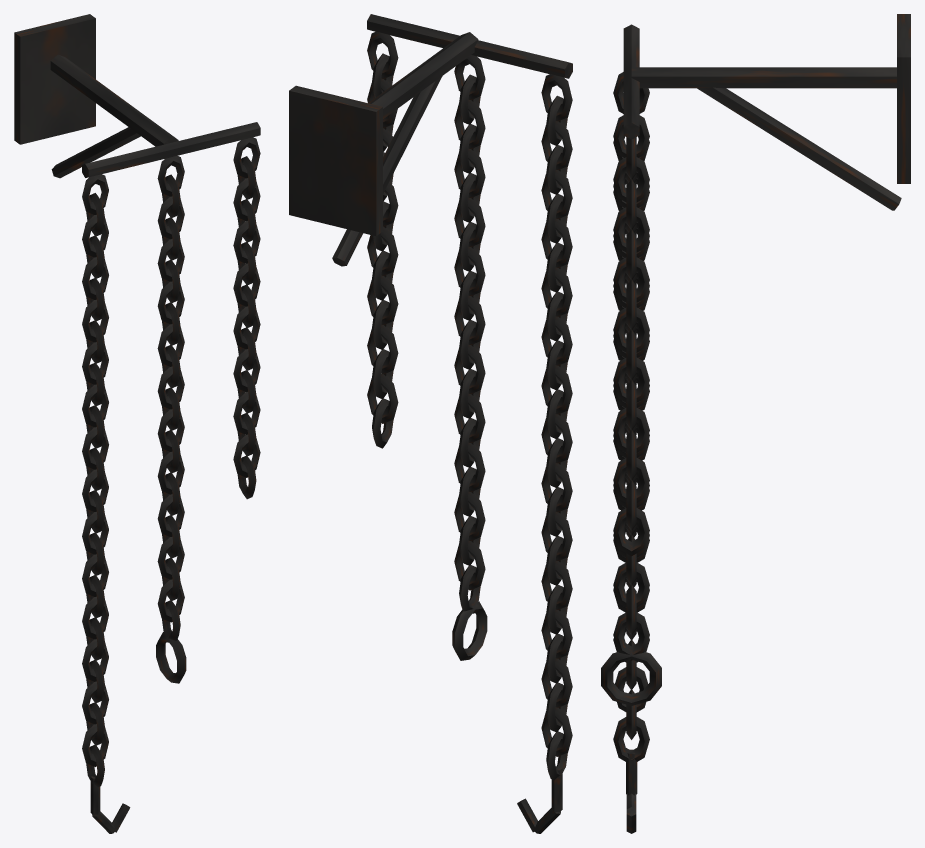
File: hanging_chains.glb
3 renders of one model, left to right at view 1: azimuth 30°, elevation 25°; view 2: azimuth 150°, elevation 25°; view 3: azimuth 270°, elevation 25°, orthographic. The views are drawn at different scales.
Visible parts, largest first — view 1: hanging_chains; view 2: hanging_chains; view 3: hanging_chains.
Part boxes in pixels (x1,y1,x2,y2): hanging_chains: (14,14,260,833); hanging_chains: (289,14,572,833); hanging_chains: (601,14,910,833).
Bounding box in the file's own units: 0.519 × 1.97 × 0.6656.
1 material, 1 textured.
